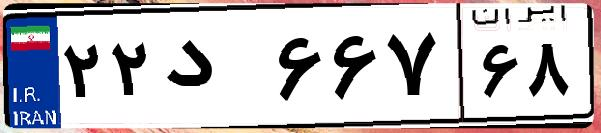2: (57, 26, 110, 100), (110, 28, 158, 98)
6: (270, 28, 330, 110), (330, 28, 385, 110), (475, 38, 525, 113)
7: (385, 28, 445, 110)
8: (525, 38, 570, 115)
د: (158, 20, 270, 120)
